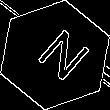N_SW: (22, 23, 88, 87)
